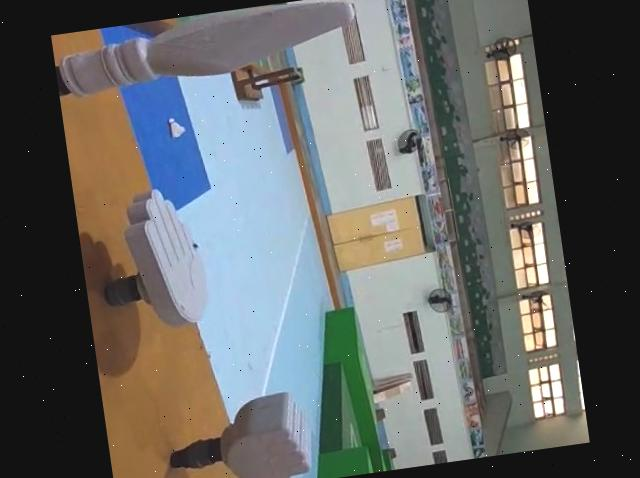Fist: (159, 385, 313, 478)
Hand: (91, 185, 213, 336)
Sph: (50, 0, 369, 96)
